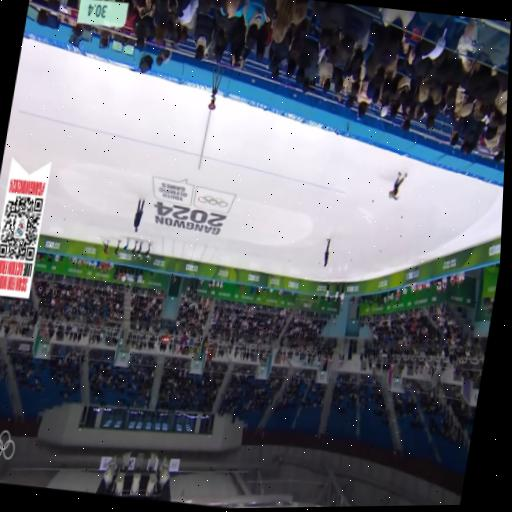Skater: (386, 168, 409, 206), (100, 238, 113, 257), (112, 239, 124, 259), (121, 236, 132, 257), (142, 242, 154, 261), (129, 239, 139, 260), (135, 240, 145, 260)
